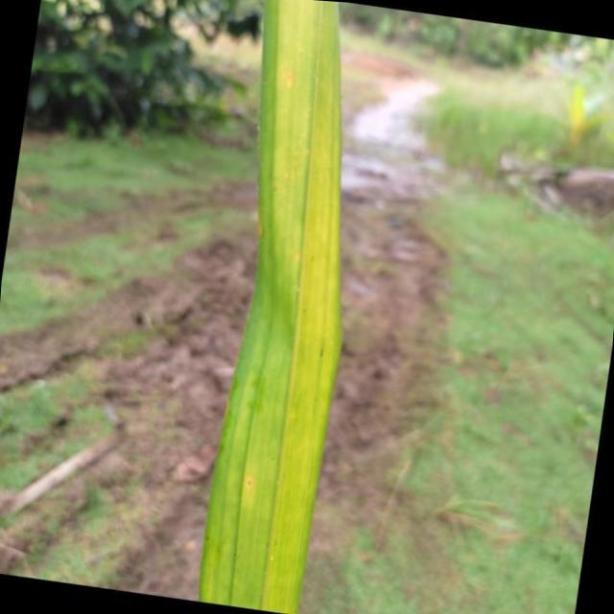nitrogen: (193, 0, 345, 614)
